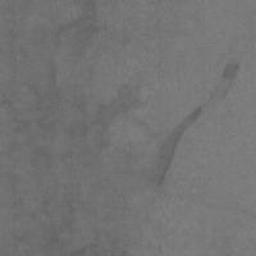Water spot: (0, 1, 243, 256)
